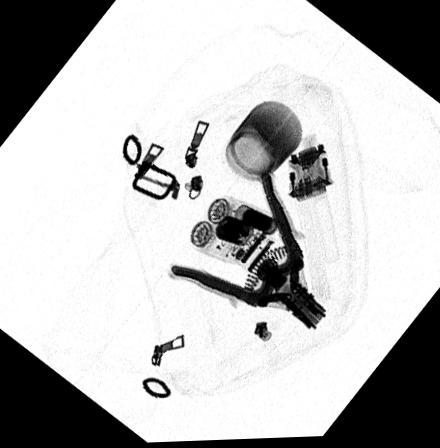Pliers: (169, 174, 328, 335)
